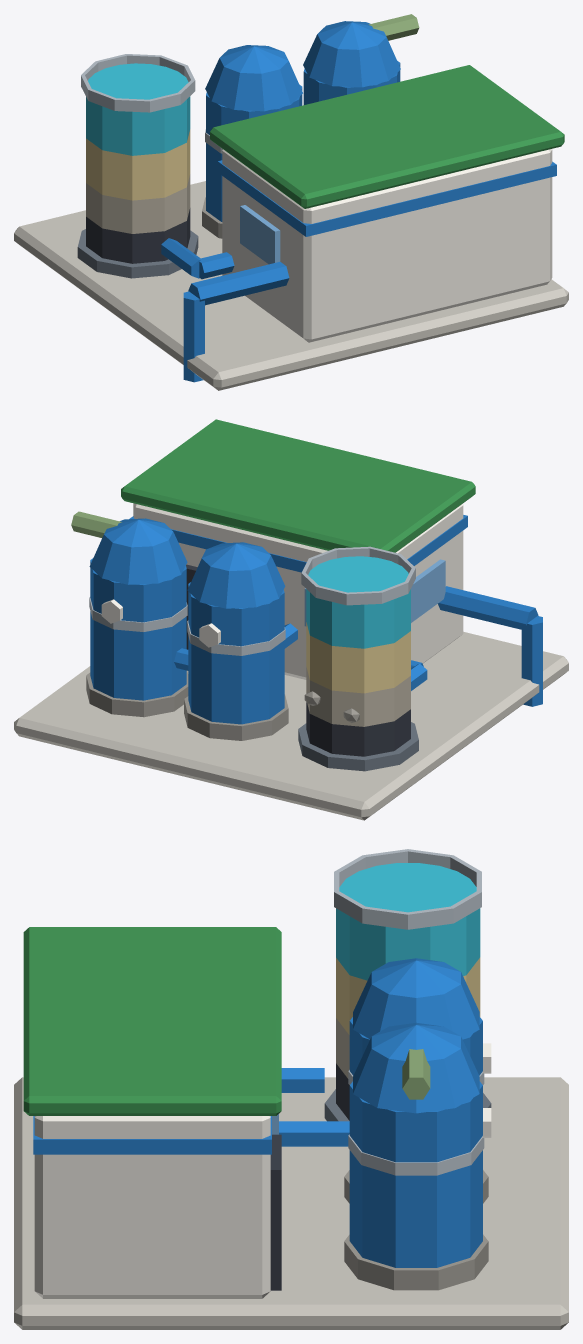
File: filter_station.glb
3 renders of one model, top to bottom at view 1: azimuth 30°, elevation 25°; view 2: azimuth 150°, elevation 25°; view 3: azimuth 270°, elevation 25°, orthographic. The views are drawn at different scales.
Parts seen in each view (by area): view 1: corpo; view 2: corpo; view 3: corpo.
Part boxes in pixels (x1,y1,x2,y2): corpo: (14,14,568,390); corpo: (14,419,568,820); corpo: (14,849,568,1329).
Bounding box in the file's own units: 2.01 × 1.08 × 2.
